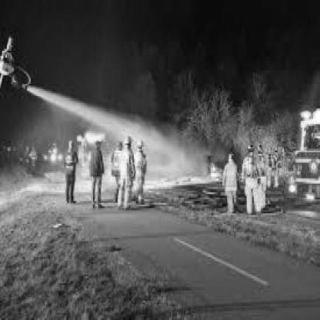Fire: (80, 118, 142, 142)
